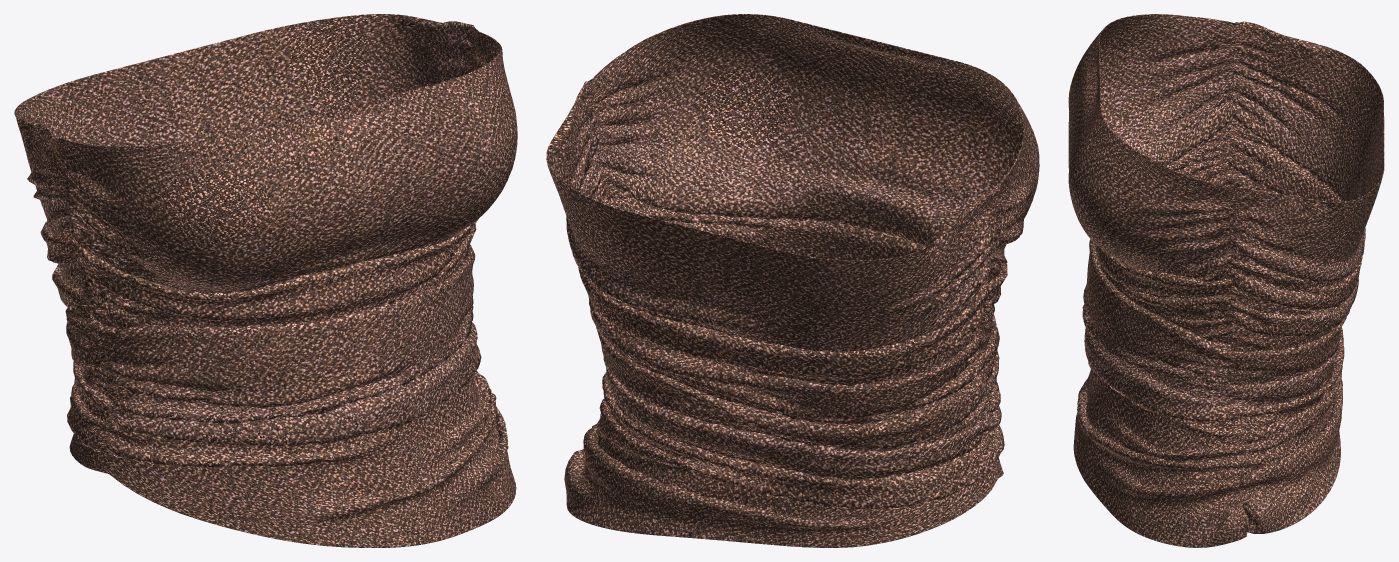
The model's file is asimetrico_fruncido_regular.glb.
3 views of the same model, side by side, from view 1: azimuth 30°, elevation 25°; view 2: azimuth 150°, elevation 25°; view 3: azimuth 270°, elevation 25° (orthographic). The views are drawn at different scales.
Visible parts, largest first — view 1: Cloth; view 2: Cloth; view 3: Cloth.
Boxes of the visible parts, x1=… form: Cloth: x1=14, y1=14, x2=517, y2=547; Cloth: x1=546, y1=14, x2=1039, y2=547; Cloth: x1=1068, y1=14, x2=1384, y2=547.
Size of the model in its own units: 0.3071 by 0.3091 by 0.2297.
Materials: 1 (1 with a texture image).
